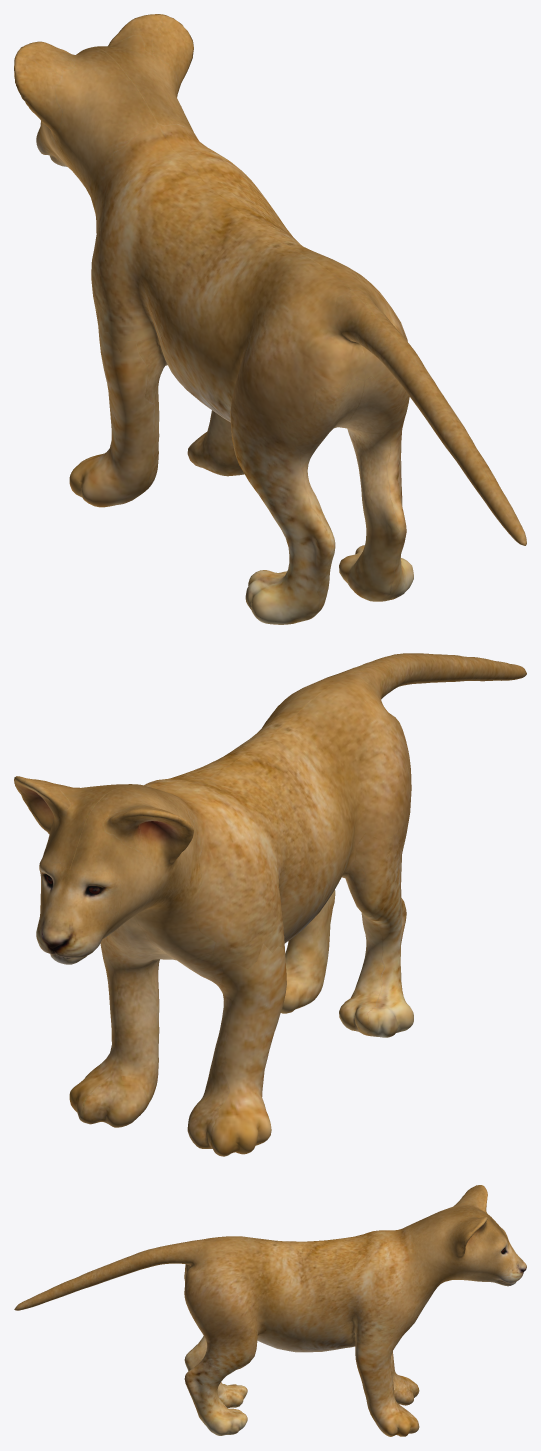
Rendered from lion.obj.
3 views of the same model, one above another, from view 1: azimuth 30°, elevation 25°; view 2: azimuth 150°, elevation 25°; view 3: azimuth 270°, elevation 25° (orthographic). The views are drawn at different scales.
Visible parts, largest first — view 1: Lion_Cub; view 2: Lion_Cub; view 3: Lion_Cub.
Part boxes in pixels (box(x1,y1,x2,y2)): Lion_Cub: box(14, 14, 526, 624); Lion_Cub: box(14, 653, 526, 1156); Lion_Cub: box(14, 1185, 526, 1436).
Size of the model in its own units: 3.65 by 7.4 by 16.02.
